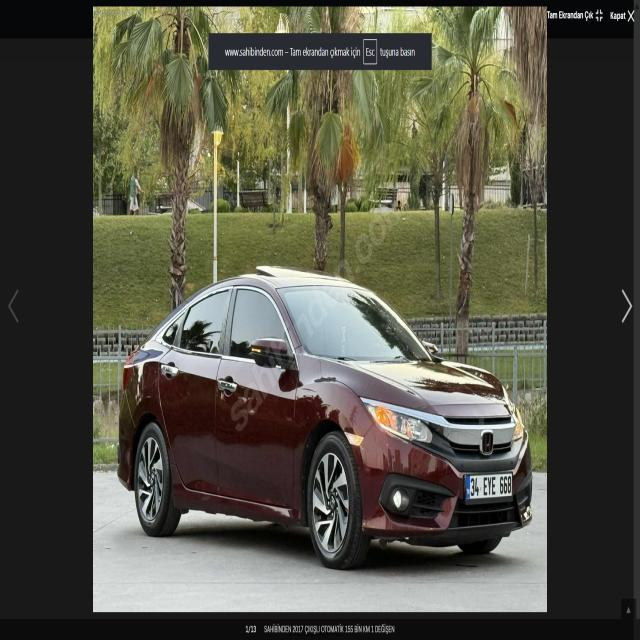honda: (476, 425, 499, 457)
